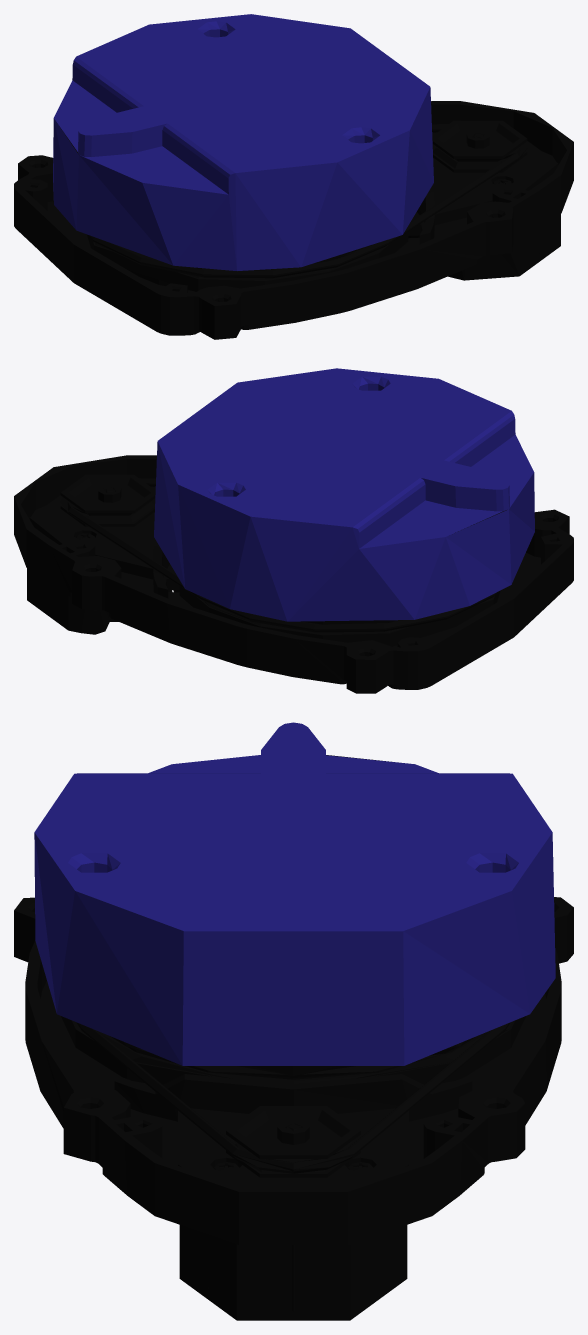
Rendered from lds.dae.
3 renders of one model, top to bottom at view 1: azimuth 30°, elevation 25°; view 2: azimuth 150°, elevation 25°; view 3: azimuth 270°, elevation 25°, orthographic. The views are drawn at different scales.
Visible parts, largest first — view 1: lds; view 2: lds; view 3: lds.
Part boxes in pixels (left/top/right/bottom): lds: left=14, top=14, right=573, bottom=339; lds: left=14, top=368, right=573, bottom=693; lds: left=14, top=722, right=573, bottom=1320.
Bounding box in the file's own units: 93.85 × 68.88 × 39.2.
